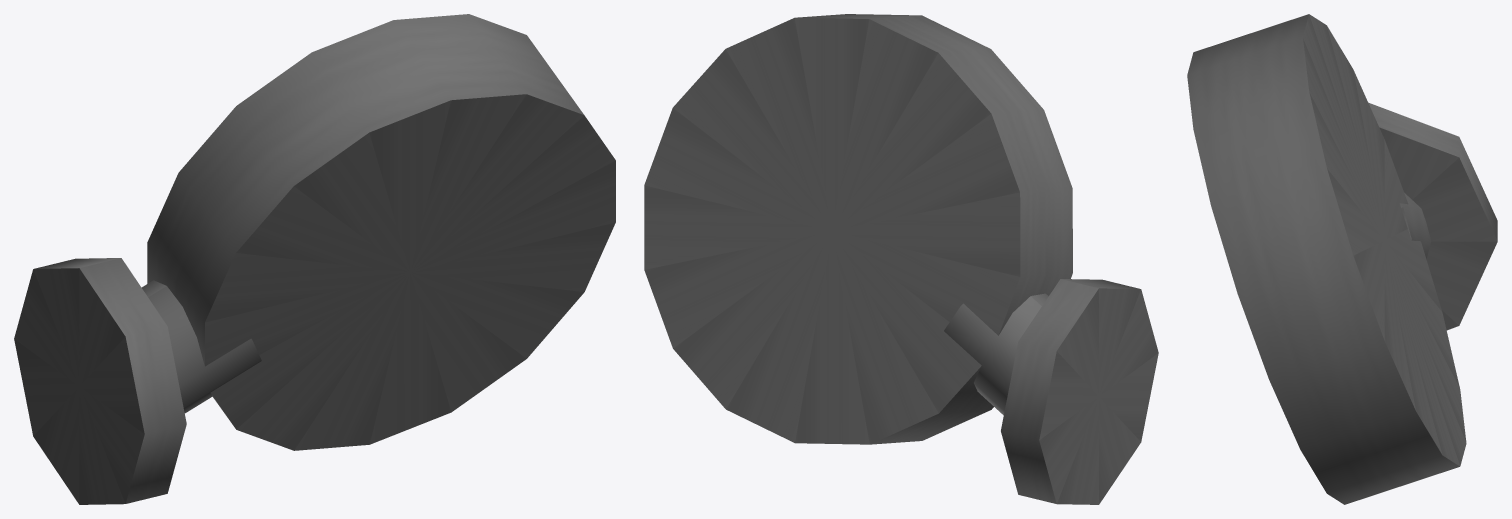
Rendered from mastarmcurve_5x1_c0_west.obj.
The picture shows the model from 3 angles, left to right: view 1: azimuth 30°, elevation 25°; view 2: azimuth 150°, elevation 25°; view 3: azimuth 270°, elevation 25°; orthographic projection. The views are drawn at different scales.
Parts seen in each view (by area): view 1: mastarm_5x1_c0_west; view 2: mastarm_5x1_c0_west; view 3: mastarm_5x1_c0_west.
Boxes of the visible parts, x1=… form: mastarm_5x1_c0_west: x1=14, y1=14, x2=615, y2=504; mastarm_5x1_c0_west: x1=644, y1=14, x2=1158, y2=504; mastarm_5x1_c0_west: x1=1187, y1=14, x2=1497, y2=504.
Size of the model in its own units: 0.8626 by 0.7468 by 0.4728.
